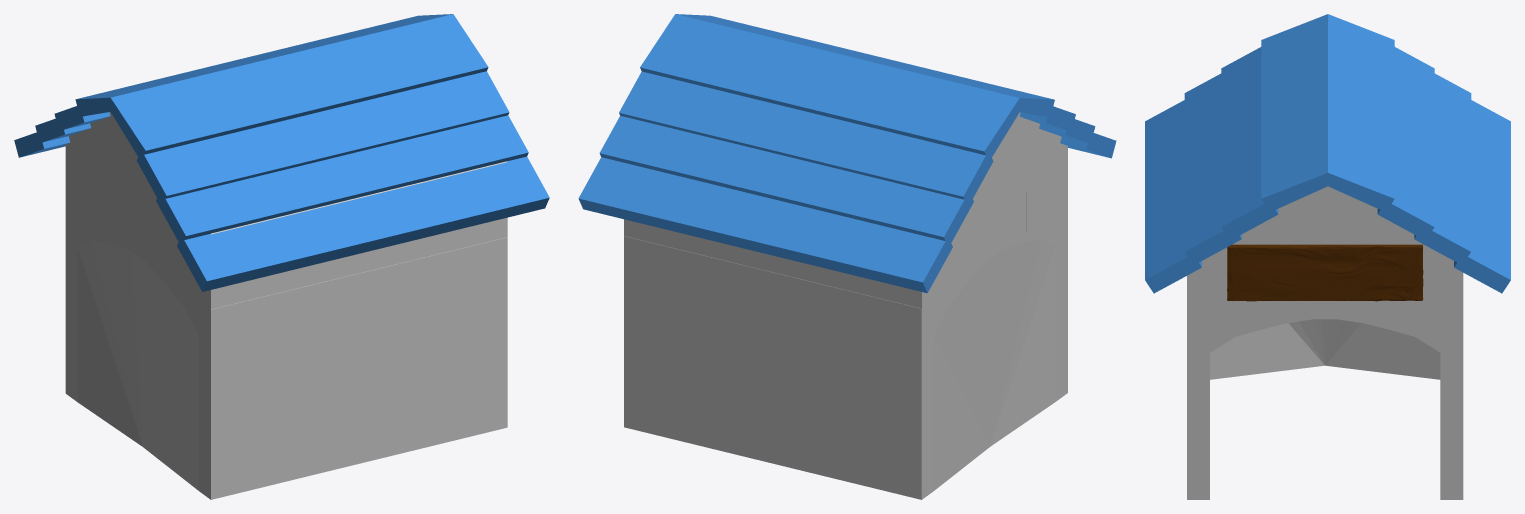
The model's file is DogHouse_ 1.fbx.
The picture shows the model from 3 angles, left to right: view 1: azimuth 30°, elevation 25°; view 2: azimuth 150°, elevation 25°; view 3: azimuth 270°, elevation 25°; orthographic projection. The views are drawn at different scales.
Parts seen in each view (by area): view 1: 立方体, 立方体.008, 立方体.006, 立方体.007, 立方体.005, 立方体.003, 立方体.001, 立方体.002, 立方体.004; view 2: 立方体, 立方体.003, 立方体.001, 立方体.004, 立方体.002, 立方体.008, 立方体.006, 立方体.007, 立方体.005; view 3: 立方体, 立方体.003, 立方体.008, 立方体.009, 立方体.007, 立方体.004, 立方体.001, 立方体.006, 立方体.002, 立方体.005.
Boxes of the visible parts, x1,y1,x2,y2 form: 立方体: (65,112,507,499); 立方体.008: (110,14,488,156); 立方体.006: (177,156,549,291); 立方体.007: (136,71,509,202); 立方体.005: (156,115,528,246); 立方体.003: (75,14,452,116); 立方体.001: (14,131,70,157); 立方体.002: (35,117,91,142); 立方体.004: (54,105,110,129); 立方体: (624,112,1067,499); 立方体.003: (640,14,1019,158); 立方体.001: (578,157,952,293); 立方体.004: (619,71,993,206); 立方体.002: (599,115,973,244); 立方体.008: (676,14,1054,116); 立方体.006: (1060,133,1116,158); 立方体.007: (1019,105,1075,131); 立方体.005: (1039,119,1095,143); 立方体: (1187,186,1463,499); 立方体.003: (1328,14,1394,211); 立方体.008: (1261,14,1327,211); 立方体.009: (1227,244,1423,301); 立方体.007: (1221,47,1278,240); 立方体.004: (1377,47,1434,238); 立方体.001: (1454,100,1510,293); 立方体.006: (1145,100,1201,293); 立方体.002: (1414,73,1471,264); 立方体.005: (1184,73,1241,264).
Size of the model in its own units: 327 by 324 by 318.
